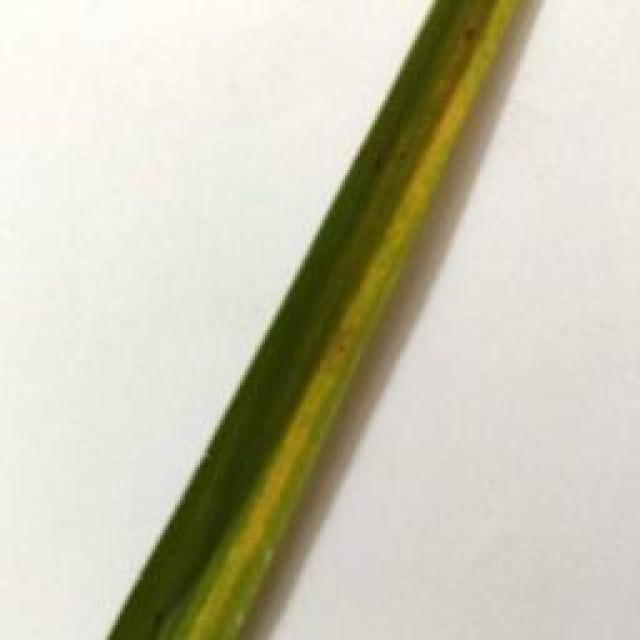Bacterial_Blight: (164, 0, 560, 640)
Brown_Spot: (366, 148, 402, 184), (459, 24, 484, 48), (144, 603, 162, 634)
